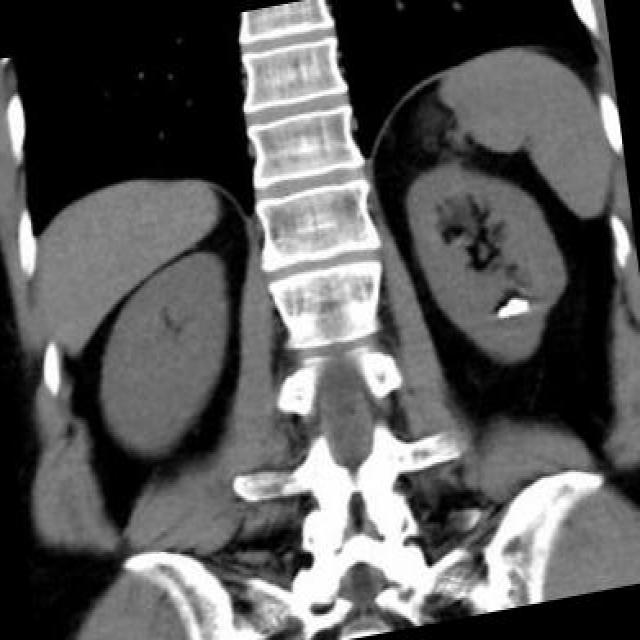Tas_Var: (506, 294, 530, 318), (493, 303, 510, 321)
